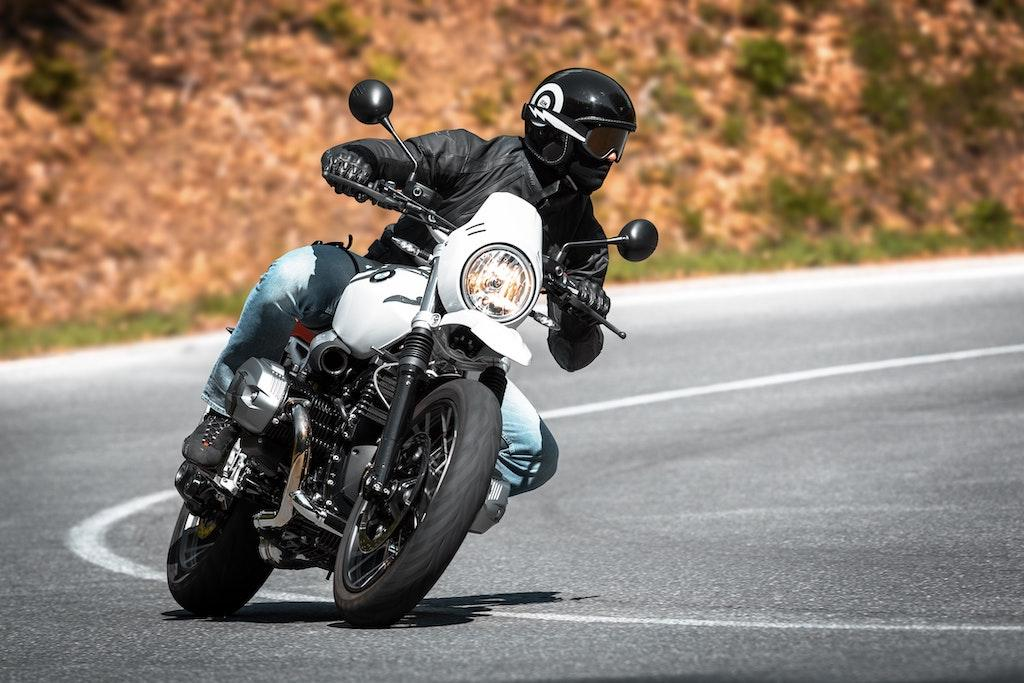helmet: (521, 67, 637, 196)
